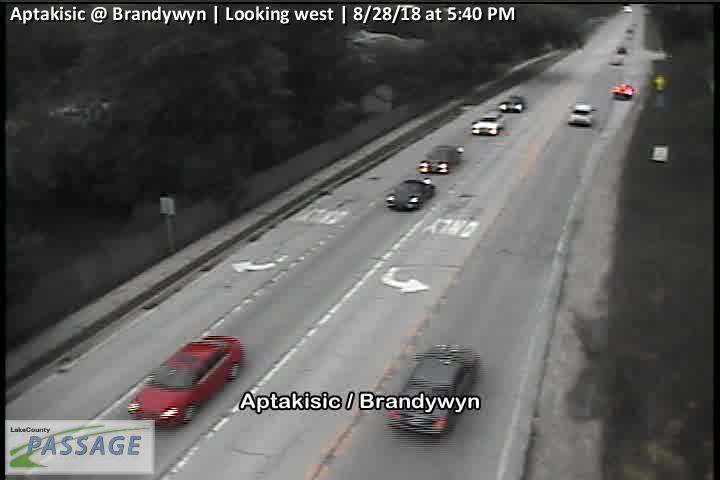Sedan: (126, 333, 244, 427), (387, 345, 480, 436), (385, 178, 435, 210), (417, 145, 464, 176), (471, 114, 505, 136), (567, 103, 594, 124), (648, 143, 670, 163), (500, 95, 524, 112), (611, 83, 636, 98)
